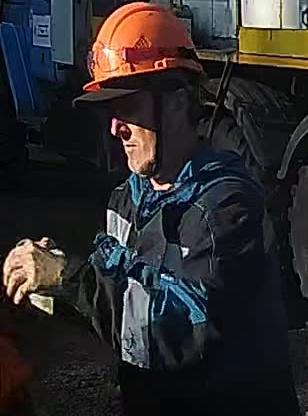helmet: (81, 1, 203, 92)
vest: (90, 148, 286, 411)
